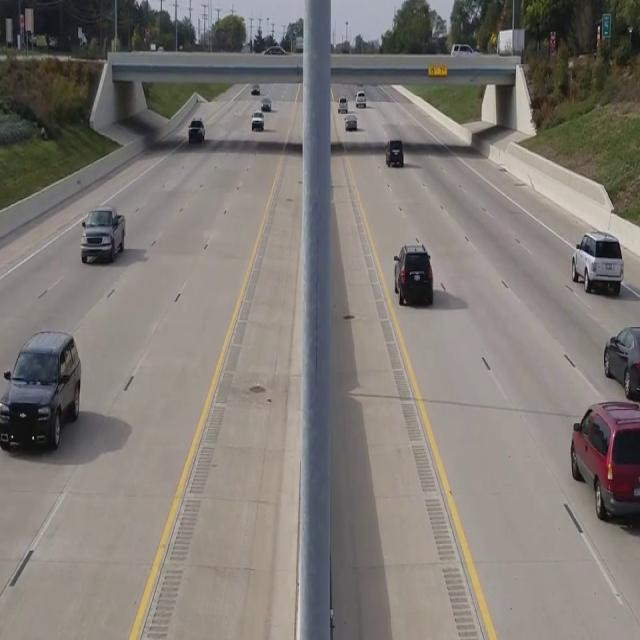car: (0, 329, 81, 451), (570, 399, 640, 522), (571, 231, 623, 296), (602, 325, 640, 403), (80, 206, 126, 263), (392, 240, 432, 304), (386, 139, 403, 166), (188, 118, 205, 144)
